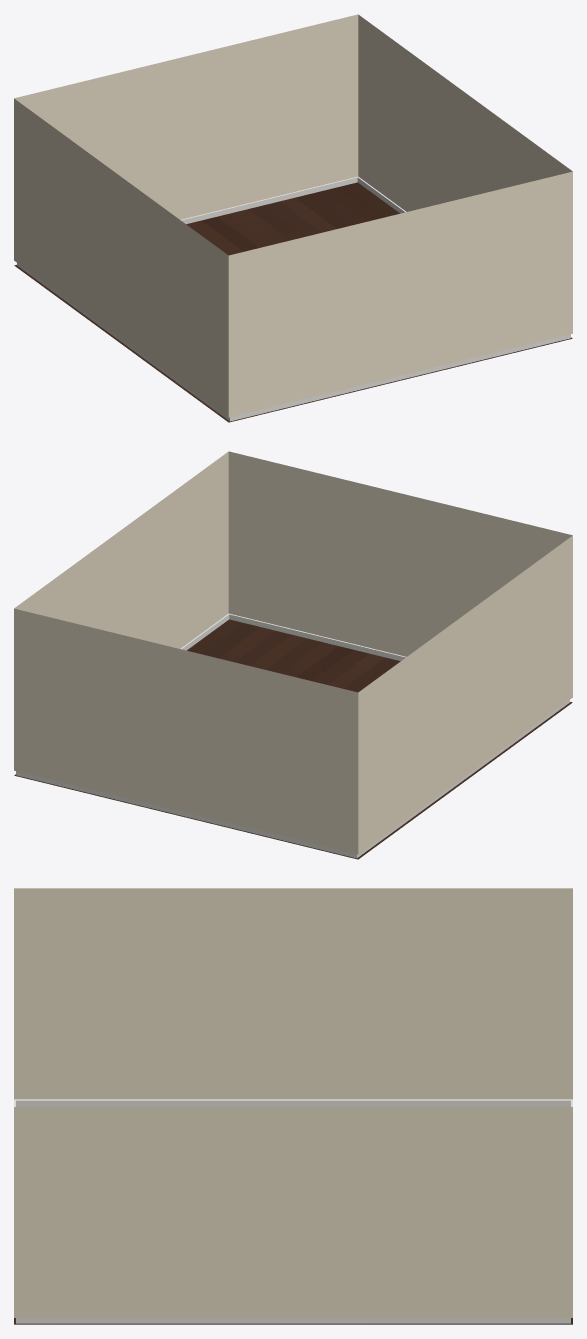
Rendered from Woonkamer.fbx.
3 views of the same model, one above another, from view 1: azimuth 30°, elevation 25°; view 2: azimuth 150°, elevation 25°; view 3: azimuth 270°, elevation 25° (orthographic). The views are drawn at different scales.
Visible parts, largest first — view 1: pPlane1; view 2: pPlane1; view 3: pPlane1.
Part boxes in pixels (x1,y1,x2,y2): pPlane1: (14,14,572,422); pPlane1: (14,451,572,859); pPlane1: (14,888,572,1324).
Size of the model in its own units: 11.08 by 5.14 by 11.97.
